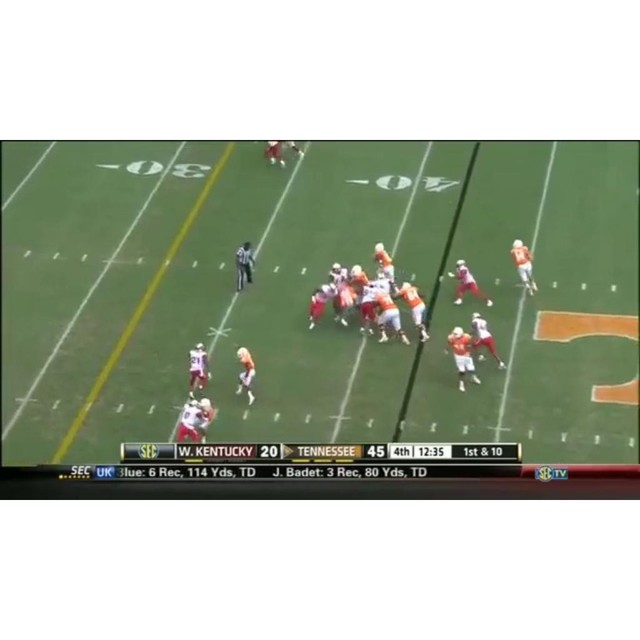american-football-player: (446, 327, 482, 392), (396, 281, 431, 343), (470, 312, 506, 370), (450, 259, 492, 307), (375, 289, 409, 346), (510, 239, 538, 295), (234, 348, 257, 407), (187, 342, 211, 398), (307, 284, 334, 331), (358, 283, 380, 337), (175, 400, 202, 444), (372, 241, 398, 285), (197, 396, 218, 442), (264, 141, 287, 170)
referee: (234, 240, 256, 292)
